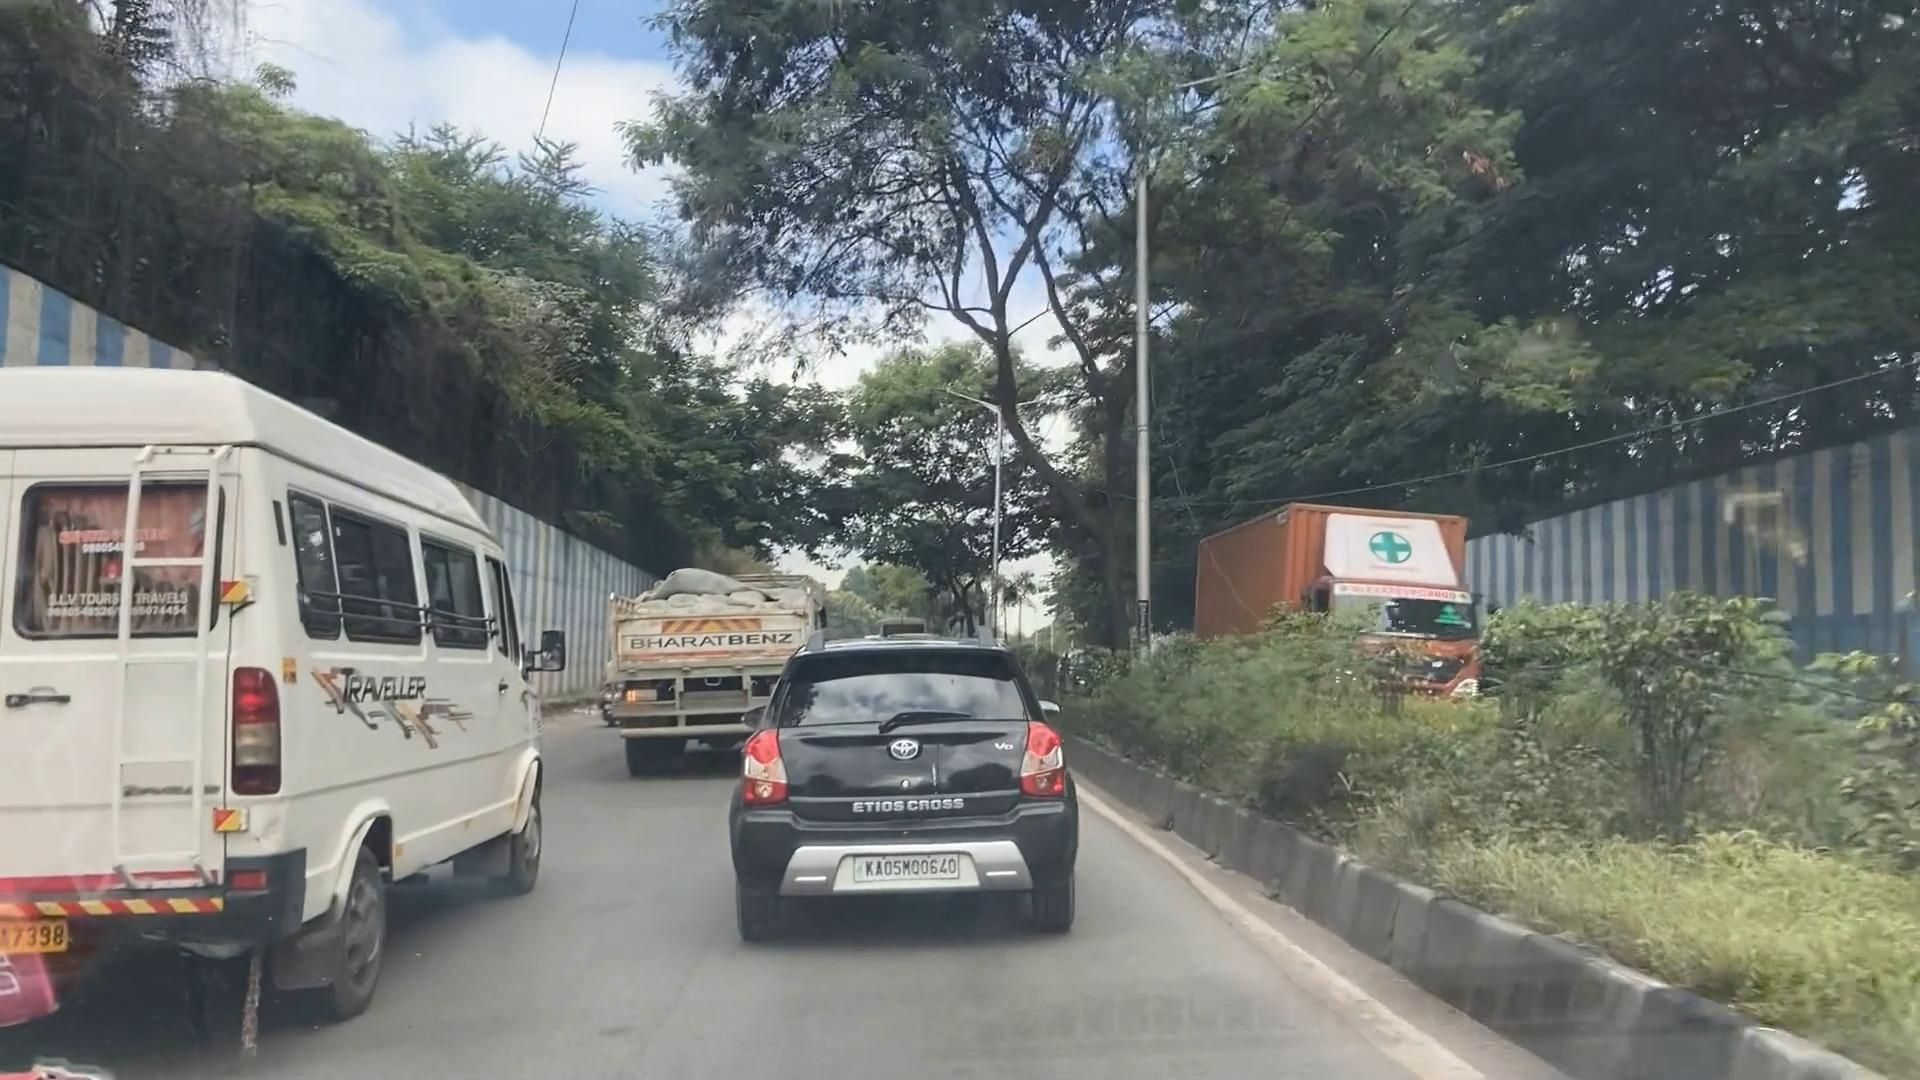HMV: (0, 338, 578, 1009), (575, 513, 828, 791)
LMV: (707, 608, 1130, 992)
